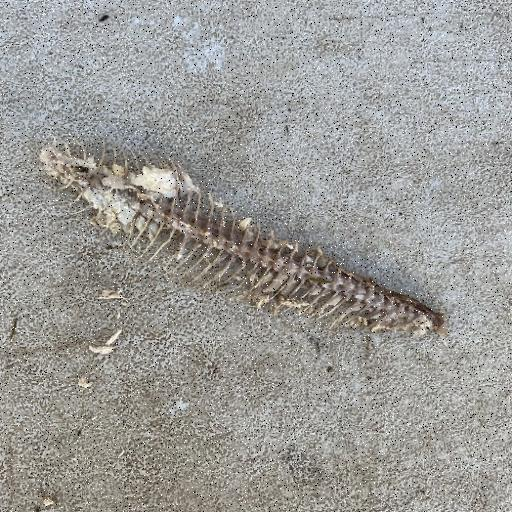Waste: (36, 135, 450, 342)
